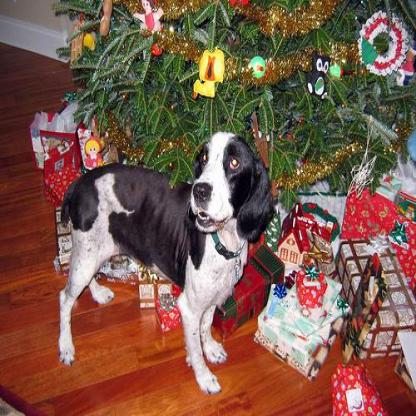English_springer: (56, 132, 273, 393)
